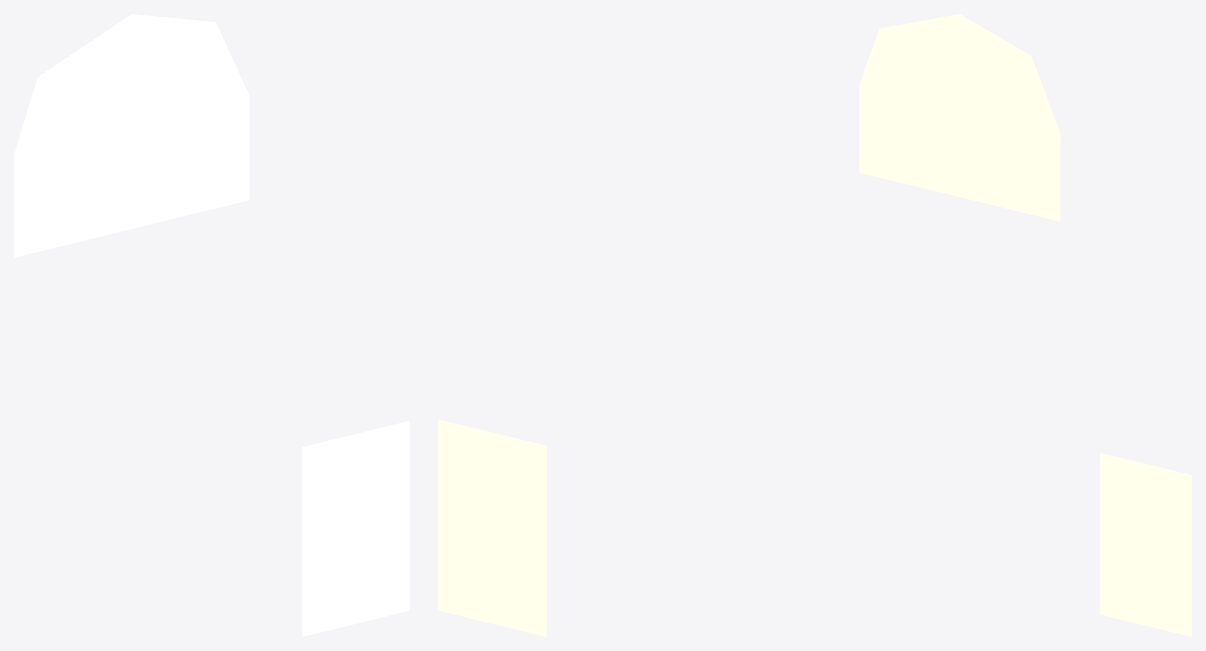
Rendered from house_moc2_Emission.glb.
3 views of the same model, side by side, from view 1: azimuth 30°, elevation 25°; view 2: azimuth 150°, elevation 25°; view 3: azimuth 330°, elevation 25° (orthographic). The views are drawn at different scales.
Parts seen in each view (by area): view 1: Emission Window; view 2: Emission Window; view 3: Emission Window.
Part boxes in pixels (box(x1,y1,x2,y2)): Emission Window: box(14, 14, 409, 636); Emission Window: box(438, 419, 546, 636); Emission Window: box(859, 14, 1191, 636).
Bounding box in the file's own units: 1.02 × 1.64 × 0.013.
